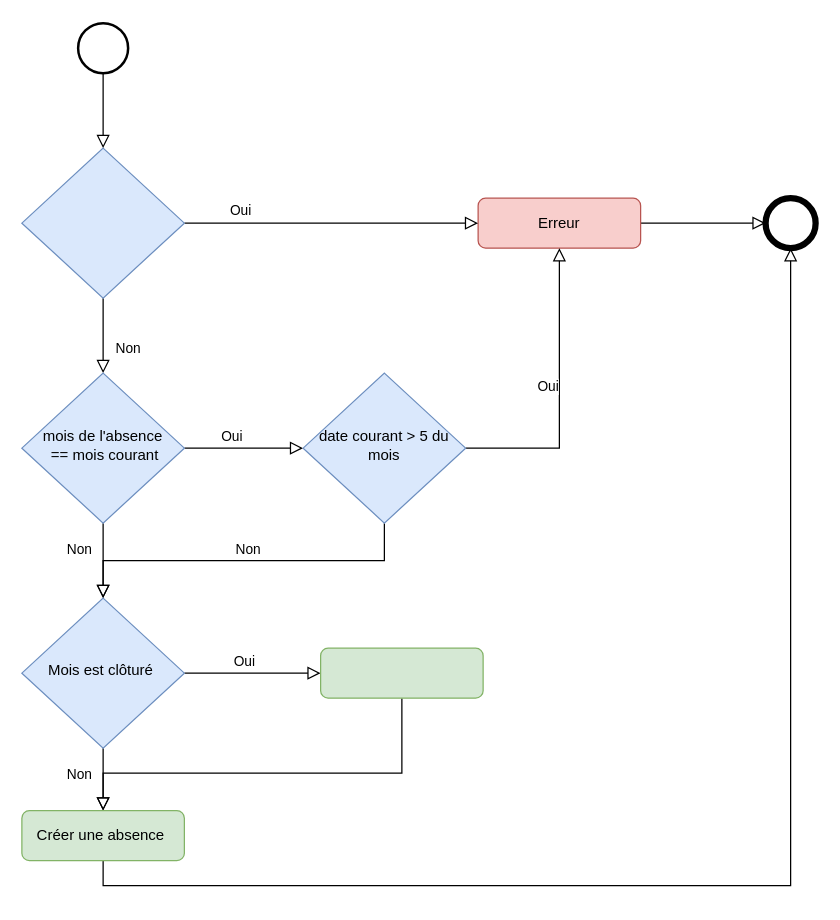
This 840x920 diagram has some shape labels left out. Here are the shapes that lost their labels. From the top down, the box of each, then its label:
(21, 147, 184, 298): Mois de l'absence < mois courant - 1
(319, 647, 483, 698): Créer une régulation
